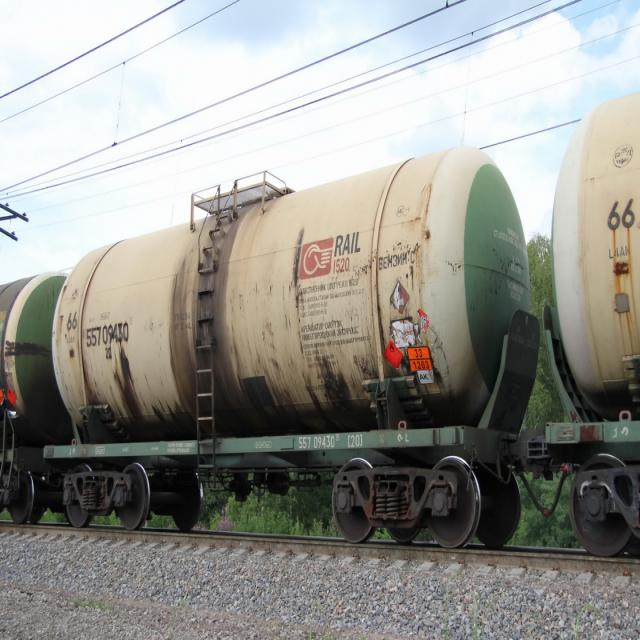tank: (49, 142, 536, 567), (539, 70, 640, 572), (0, 256, 66, 534)
